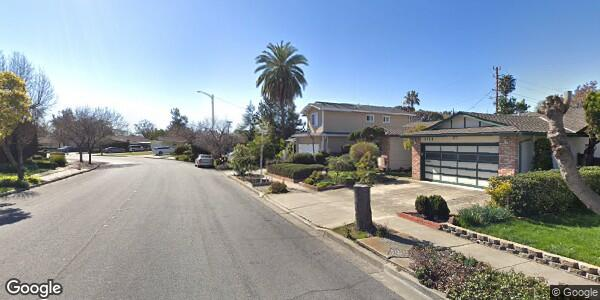Steel_Pole: (194, 89, 217, 155)
